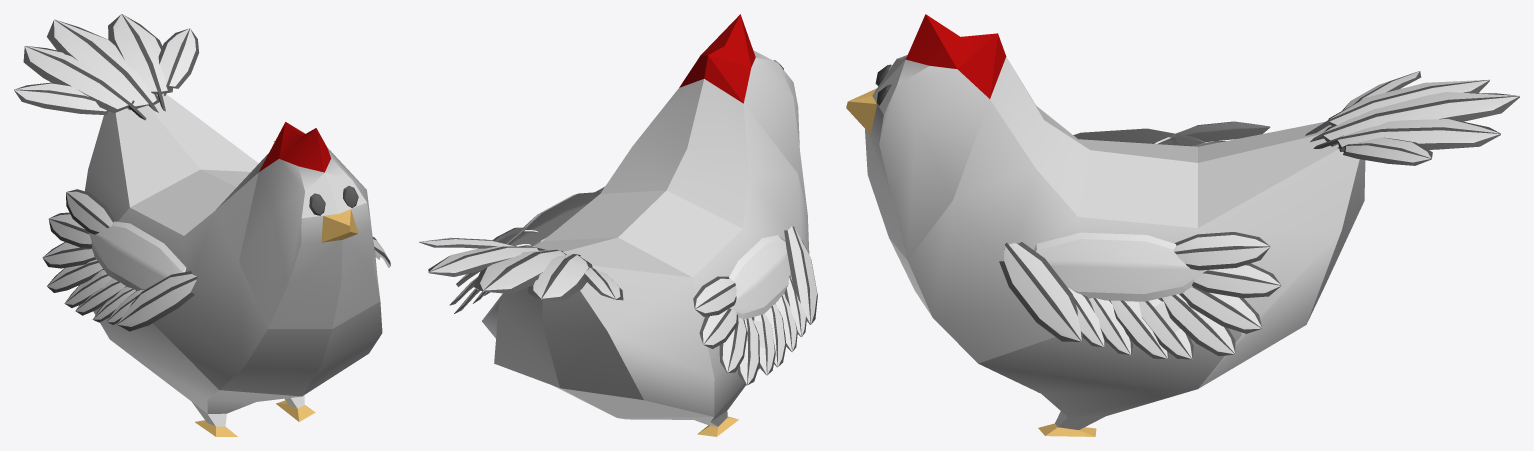
Rendered from Chicken.fbx.
The picture shows the model from 3 angles, left to right: view 1: azimuth 30°, elevation 25°; view 2: azimuth 150°, elevation 25°; view 3: azimuth 270°, elevation 25°; orthographic projection. The views are drawn at different scales.
Visible parts, largest first — view 1: pCube37, pCube27, pCube33; view 2: pCube37, pCube27, pCube33, pCube25; view 3: pCube37, pCube25, pCube33, pCube27.
Boxes of the visible parts, bbox=[...] form: pCube37: bbox=[78, 93, 382, 436]; pCube27: bbox=[42, 189, 197, 331]; pCube33: bbox=[14, 14, 199, 120]; pCube37: bbox=[482, 14, 809, 436]; pCube27: bbox=[693, 226, 817, 385]; pCube33: bbox=[419, 237, 623, 301]; pCube25: bbox=[449, 186, 604, 313]; pCube37: bbox=[846, 14, 1365, 436]; pCube25: bbox=[999, 232, 1281, 359]; pCube33: bbox=[1305, 71, 1519, 165]; pCube27: bbox=[1073, 121, 1270, 146].
Size of the model in its own units: 1.97 by 2.28 by 3.51.
